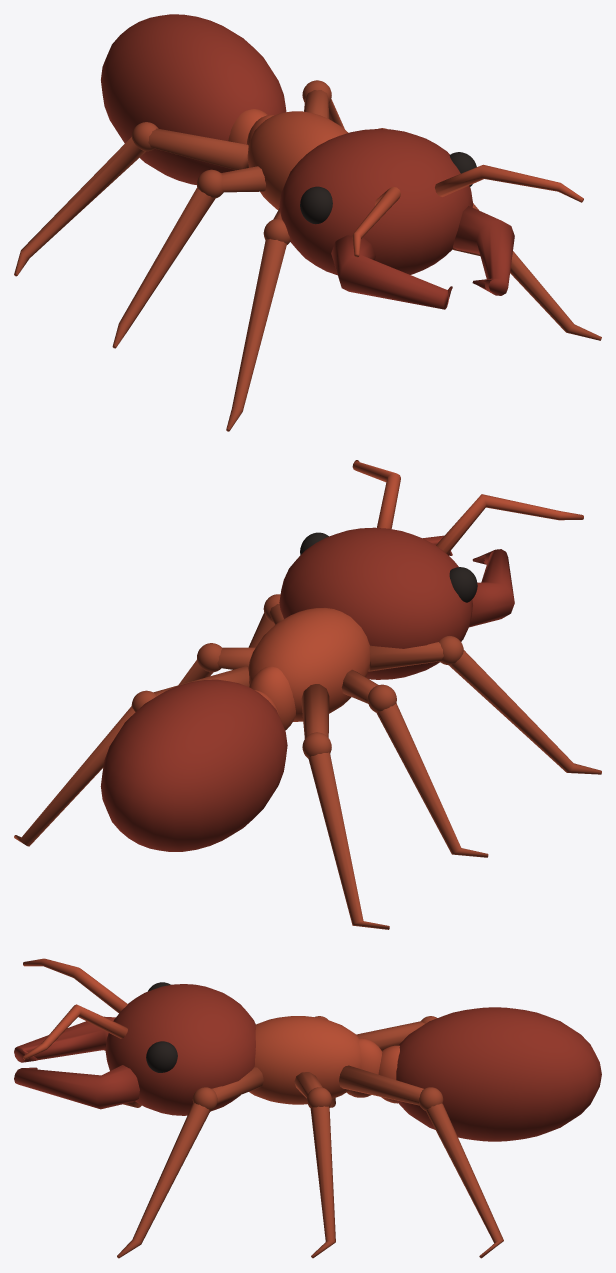
File: soldier-study.glb
3 views of the same model, one above another, from view 1: azimuth 30°, elevation 25°; view 2: azimuth 150°, elevation 25°; view 3: azimuth 270°, elevation 25° (orthographic). The views are drawn at different scales.
Parts seen in each view (by area): view 1: SOLDIER gaster, SOLDIER head, SOLDIER leg -1 2, SOLDIER thorax, SOLDIER mandible -1, SOLDIER leg -1 1, SOLDIER mandible 1, SOLDIER leg -1 0, SOLDIER elbowed antenna 1, SOLDIER leg 1 0, SOLDIER eye, SOLDIER elbowed antenna -1 (+3 smaller); view 2: SOLDIER gaster, SOLDIER head, SOLDIER thorax, SOLDIER leg -1 2, SOLDIER leg -1 0, SOLDIER leg -1 1, SOLDIER leg 1 2, SOLDIER mandible -1, SOLDIER elbowed antenna -1, SOLDIER petiole front, SOLDIER elbowed antenna 1, SOLDIER leg 1 1 (+2 smaller); view 3: SOLDIER gaster, SOLDIER head, SOLDIER thorax, SOLDIER leg 1 2, SOLDIER mandible 1, SOLDIER leg 1 0, SOLDIER leg 1 1, SOLDIER mandible -1, SOLDIER elbowed antenna 1, SOLDIER elbowed antenna -1, SOLDIER leg -1 2, SOLDIER eye.001 (+5 smaller).
Part boxes in pixels (x1,y1,x2,y2): SOLDIER gaster: (101,14,286,184); SOLDIER head: (279,129,472,275); SOLDIER leg -1 2: (14,128,248,276); SOLDIER thorax: (247,111,348,209); SOLDIER mandible -1: (331,235,452,309); SOLDIER leg -1 1: (112,166,265,348); SOLDIER mandible 1: (453,206,514,295); SOLDIER leg -1 0: (226,208,286,431); SOLDIER elbowed antenna 1: (435,164,583,202); SOLDIER leg 1 0: (472,203,601,340); SOLDIER eye: (300,186,332,224); SOLDIER elbowed antenna -1: (352,187,400,257); SOLDIER gaster: (100,679,287,851); SOLDIER head: (279,527,472,679); SOLDIER thorax: (248,608,370,721); SOLDIER leg -1 2: (301,684,389,929); SOLDIER leg -1 0: (368,642,601,774); SOLDIER leg -1 1: (341,669,488,857); SOLDIER leg 1 2: (14,666,249,846); SOLDIER mandible -1: (469,549,514,627); SOLDIER elbowed antenna -1: (436,494,583,554); SOLDIER petiole front: (249,666,295,730); SOLDIER elbowed antenna 1: (352,460,400,528); SOLDIER leg 1 1: (178,647,255,685); SOLDIER gaster: (396,1007,601,1141); SOLDIER head: (105,984,255,1115); SOLDIER thorax: (249,1016,361,1104); SOLDIER leg 1 2: (339,1065,503,1258); SOLDIER mandible 1: (14,1065,139,1109); SOLDIER leg 1 0: (117,1067,263,1258); SOLDIER leg 1 1: (294,1072,335,1258); SOLDIER mandible -1: (14,1016,115,1062); SOLDIER elbowed antenna 1: (23,1004,127,1059); SOLDIER elbowed antenna -1: (23,958,127,1013); SOLDIER leg -1 2: (356,1021,424,1050); SOLDIER eye.001: (146,1041,177,1072).
Bounding box in the file's own units: 2.6 × 1.5 × 4.12.
